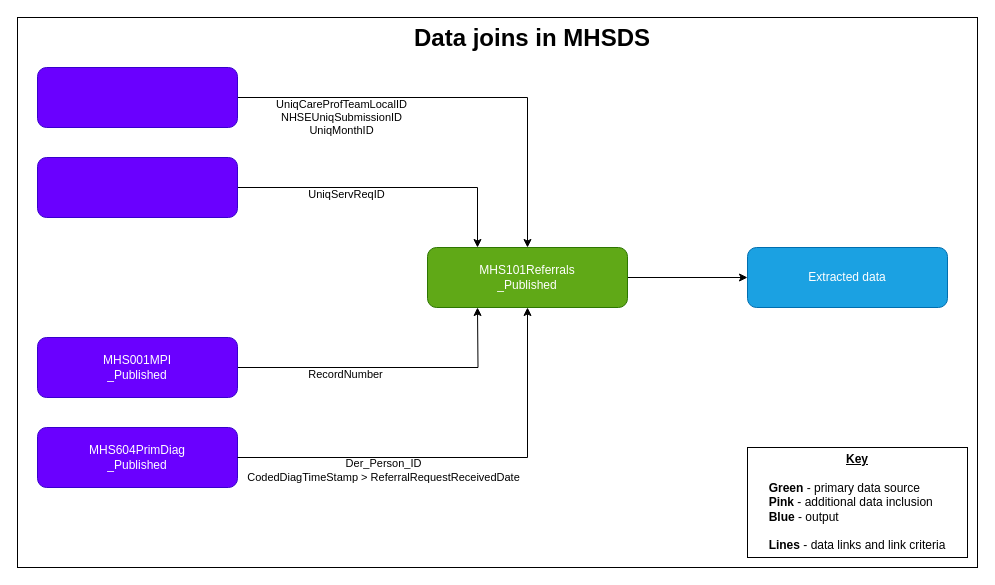
This 995x585 diagram has some shape labels left out. Here are the shapes that lost their labels. From the top down, the box of each, then its label:
(36, 66, 238, 128): MHS902ServiceTeamDetails _Published
(36, 156, 238, 218): MHS102ServiceTypeReferredTo _Published
